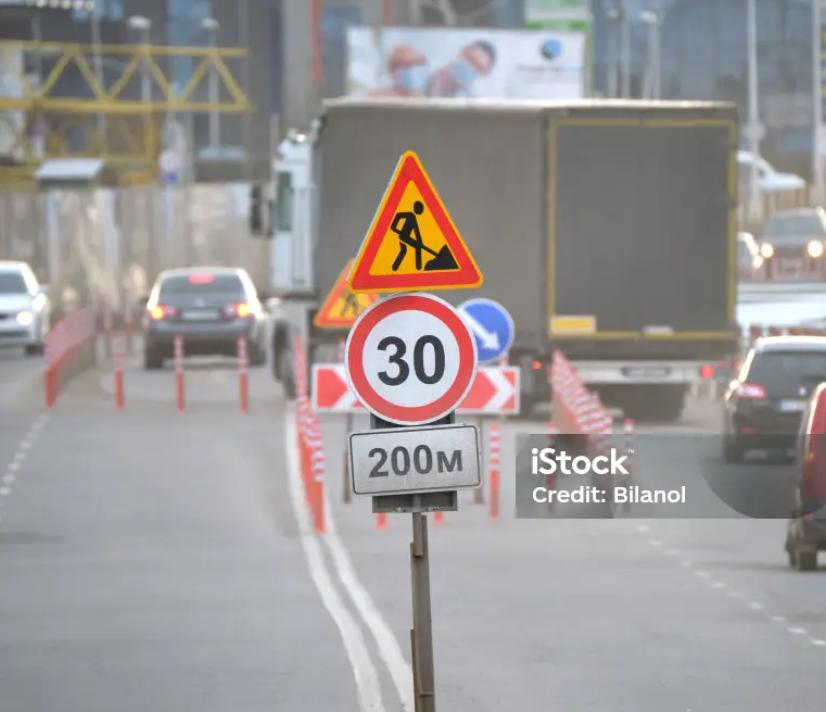obstructed_road_sign: (312, 364, 521, 414), (313, 259, 380, 327), (456, 298, 513, 364)
road_sign: (347, 150, 484, 293), (347, 295, 477, 424), (347, 424, 480, 492)
